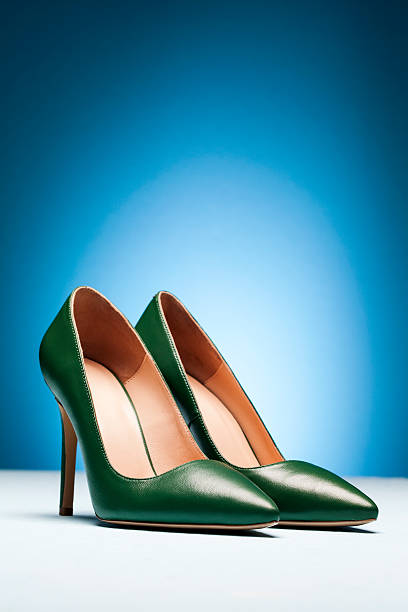Footwear: (31, 277, 383, 536), (37, 282, 291, 537)
